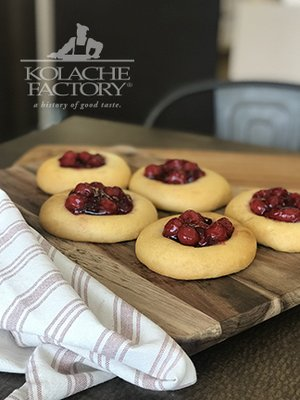curry: (2, 114, 300, 396)
pasta: (142, 78, 300, 152)
salad: (134, 210, 257, 281), (39, 182, 158, 243), (129, 159, 231, 213), (224, 186, 300, 254), (35, 148, 131, 196)
